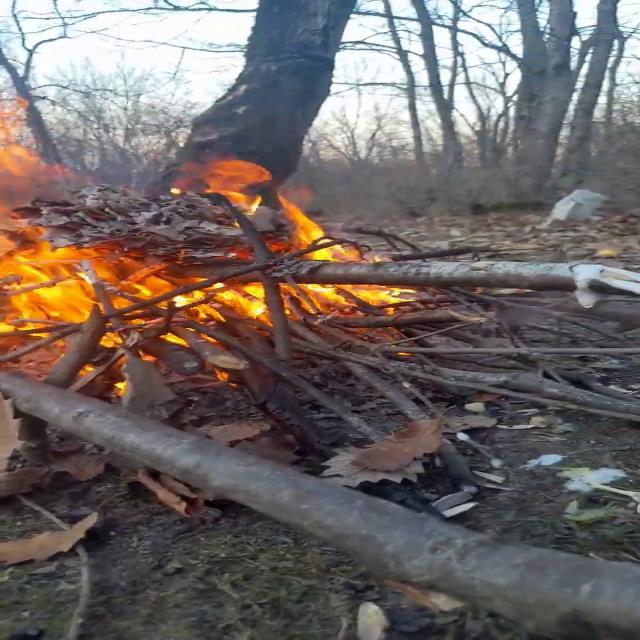Fire: (2, 149, 408, 389)
